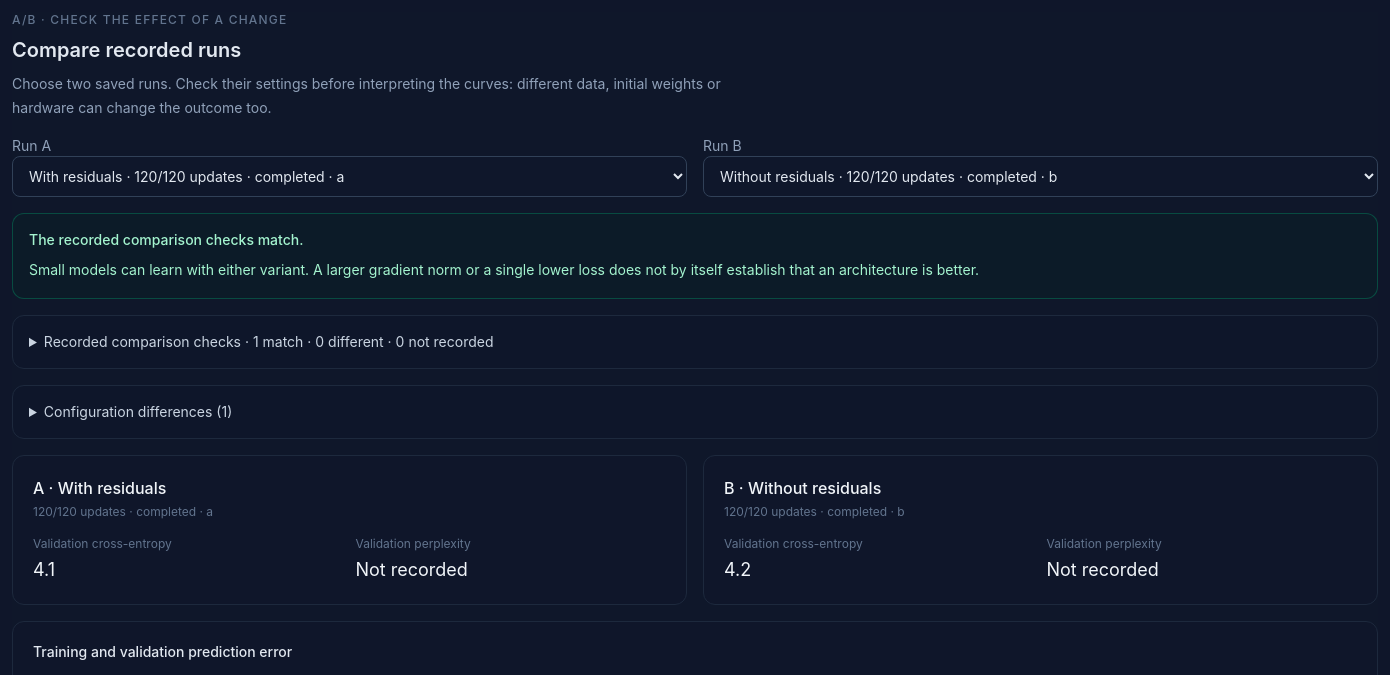
Test: Recorded A/B comparison › presents graph differences by variant name with a short signature in the optional details
The image size is (1390, 675).
Check: the text "The recorded comparison checks match." is shown, box top-left (29, 231), bottom-right (303, 248)
Click the heading "Configuration differences (1)" at (138, 412), box top-left (44, 403), bottom-right (232, 420)
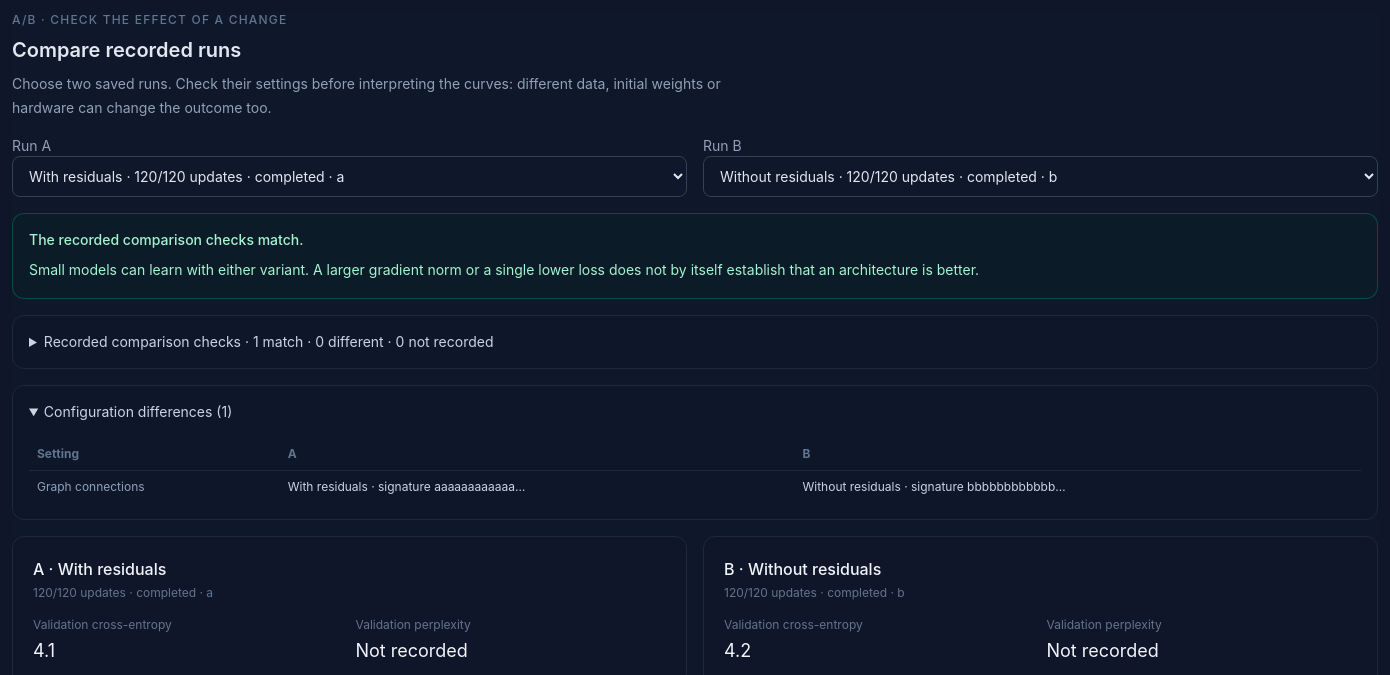
Check: the column heading "Graph connections" is shown, box top-left (29, 470), bottom-right (280, 503)
Check: the text "With residuals · signature aaaaaaaaaaaa…" is shown, box top-left (280, 470), bottom-right (794, 503)
